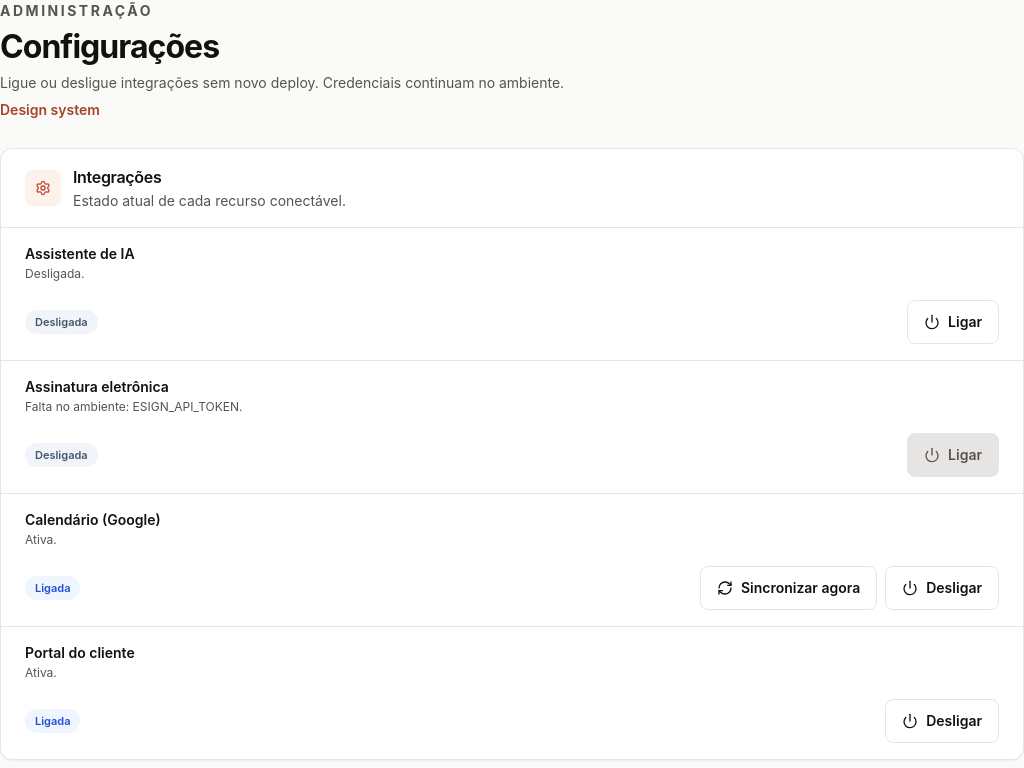
Test: sincroniza o calendário e mostra o resultado
Click the button "Sincronizar agora" at x=789, y=588, box left=700, top=566, right=877, bottom=610
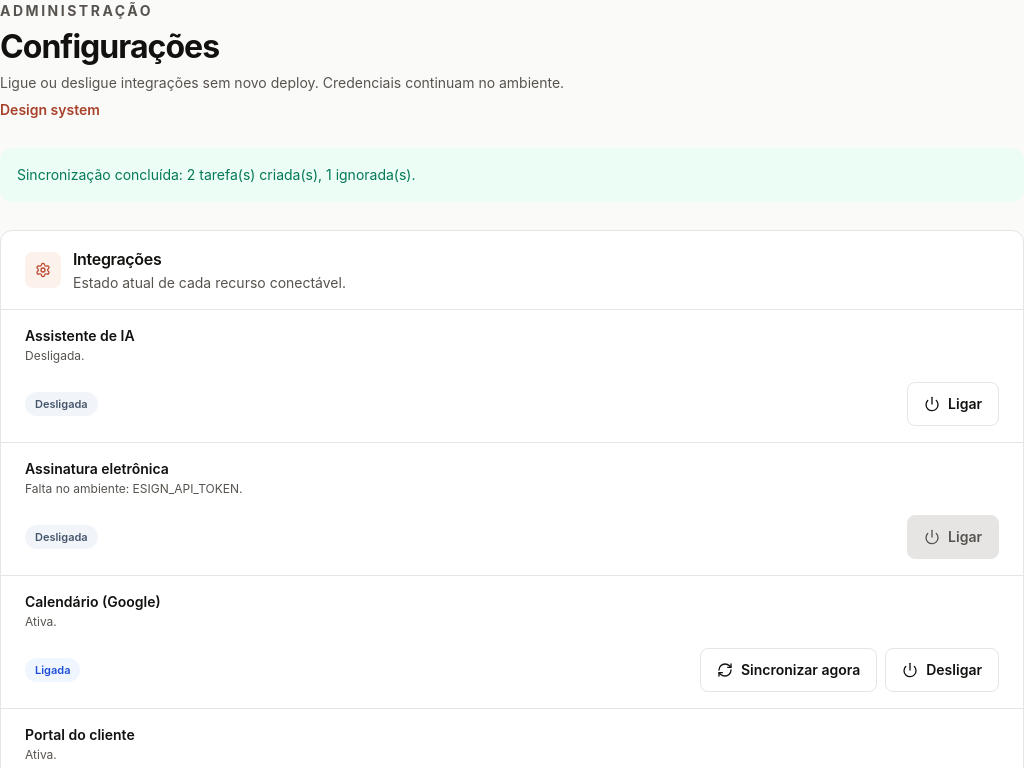
Result: the text "Sincronização concluída: 2 tarefa(s) criada(s), 1 ignorada(s)." is shown at left=0, top=148, right=1023, bottom=202
